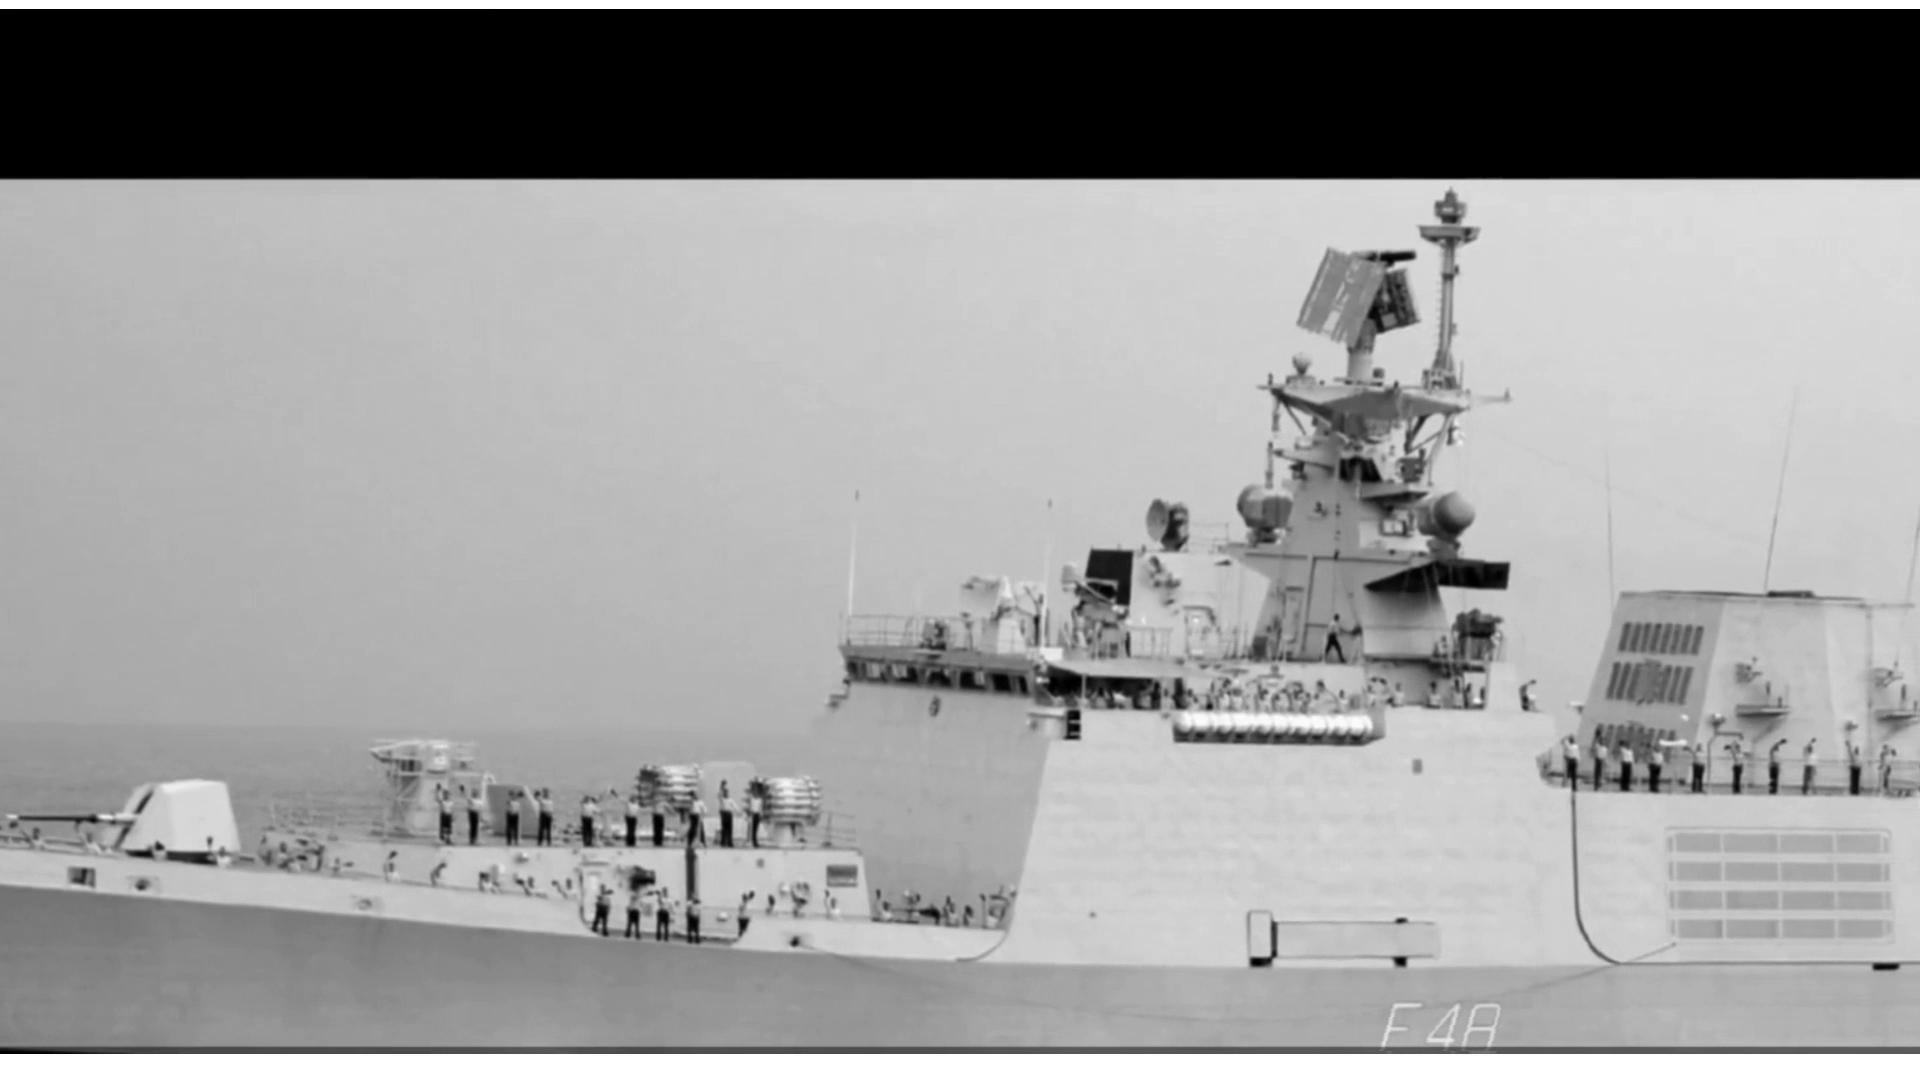OCR: (1362, 989, 1520, 1051)
